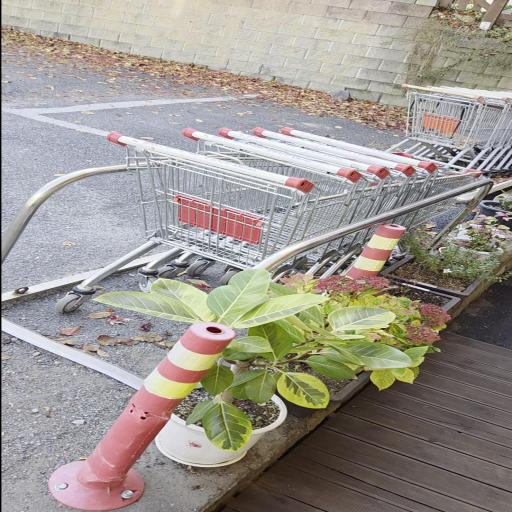combined_cart: (0, 127, 496, 405), (381, 84, 512, 173)
